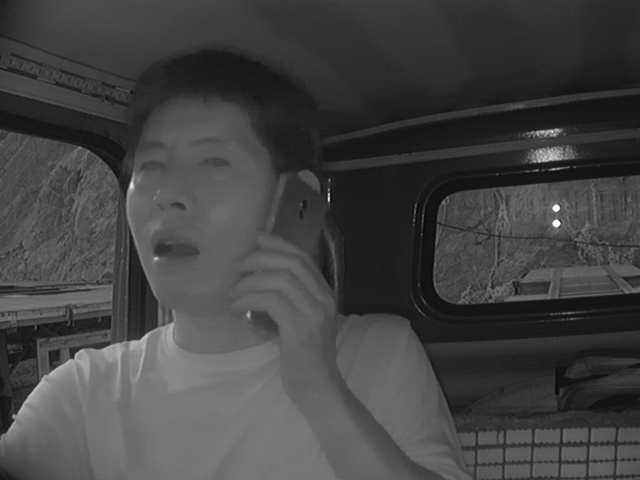hand: (232, 229, 345, 388)
